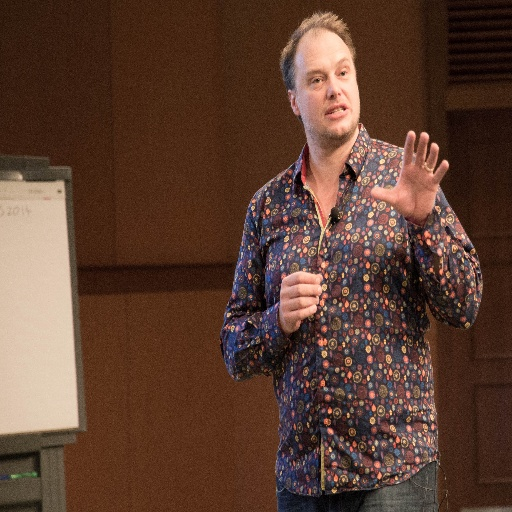hand: (368, 129, 450, 222), (282, 274, 334, 342)
